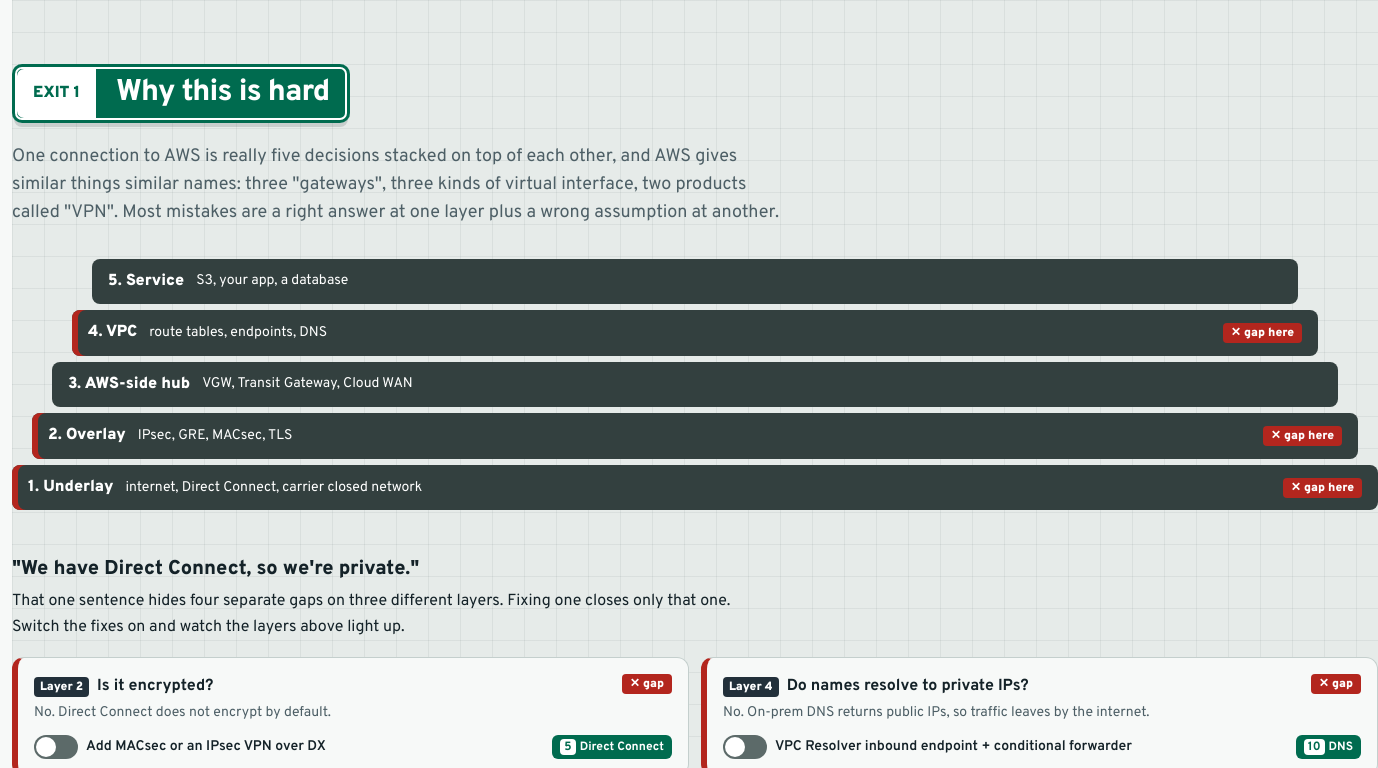
Test: interactions › why: fixing a gap lights its layer as fixed
Click the switch next to "Add MACsec or an IPsec VPN over DX": (56, 747) [34,735,78,759]
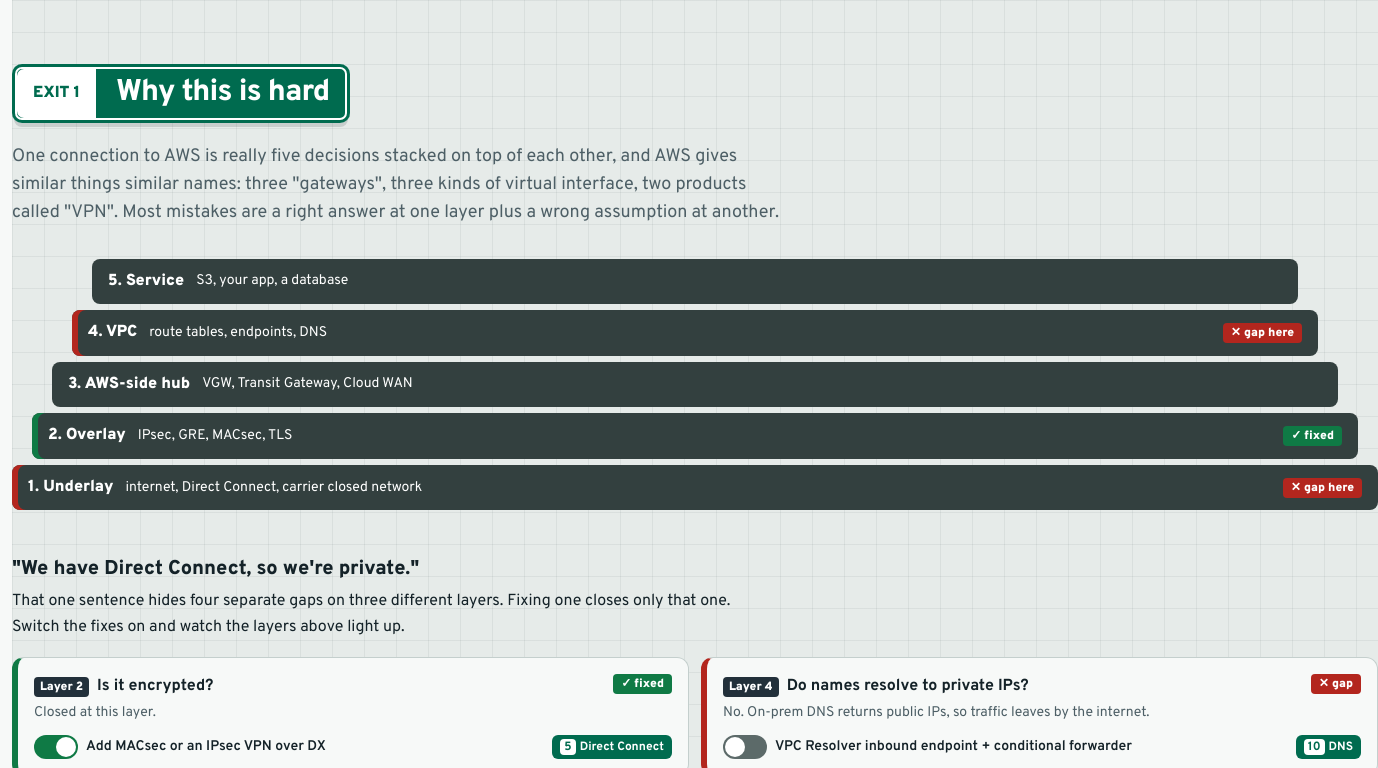
Expected: the text "✓ fixed" in the row of "Overlay" is shown, [1291,428,1334,444]
